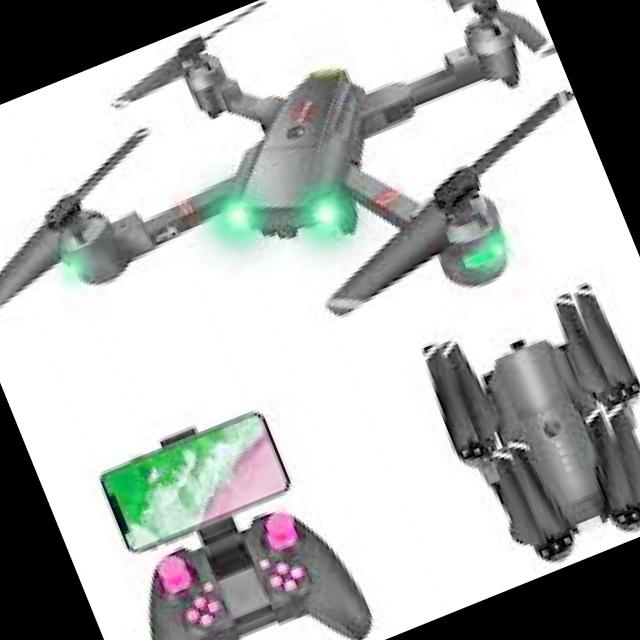drone: (0, 0, 631, 474)
